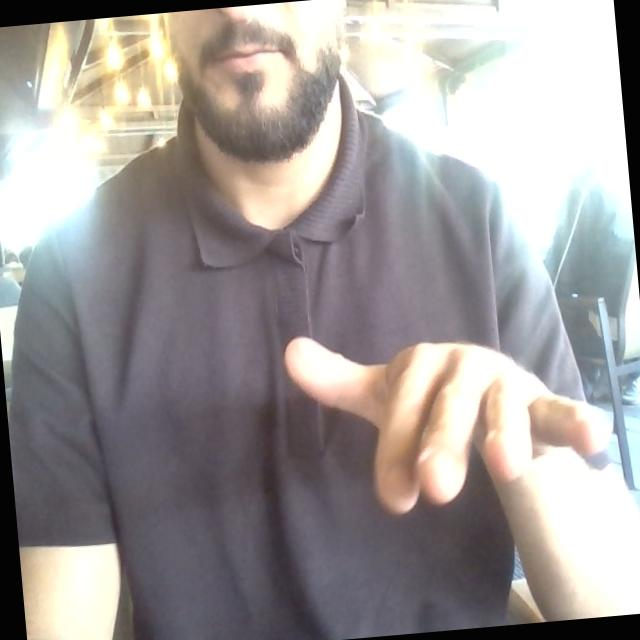Hand: (285, 338, 609, 512)
